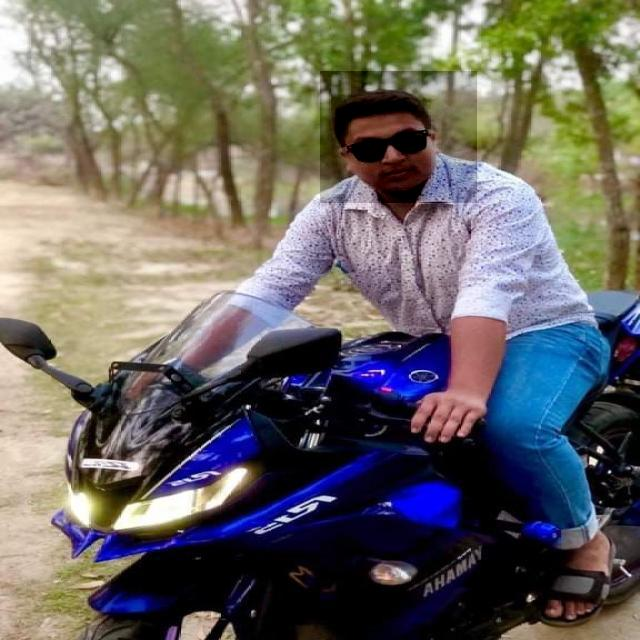No_Helmet: (320, 72, 477, 204)
